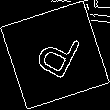P_SW: (26, 24, 84, 86)
